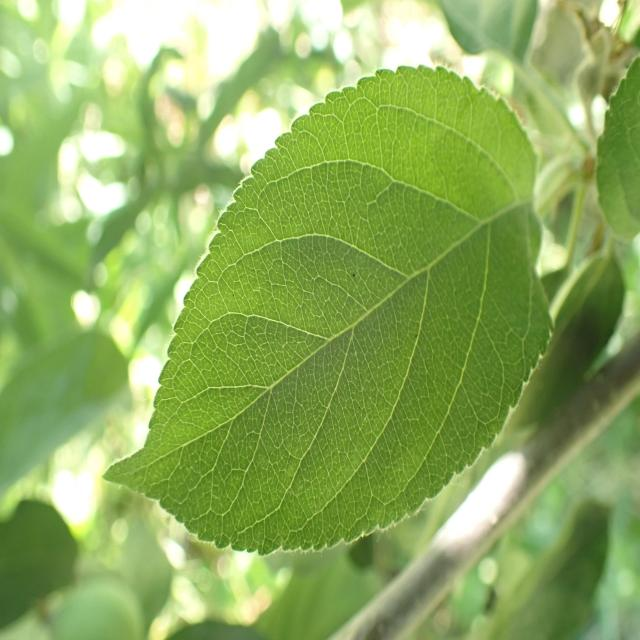healthy: (101, 63, 555, 558), (595, 54, 640, 243)
